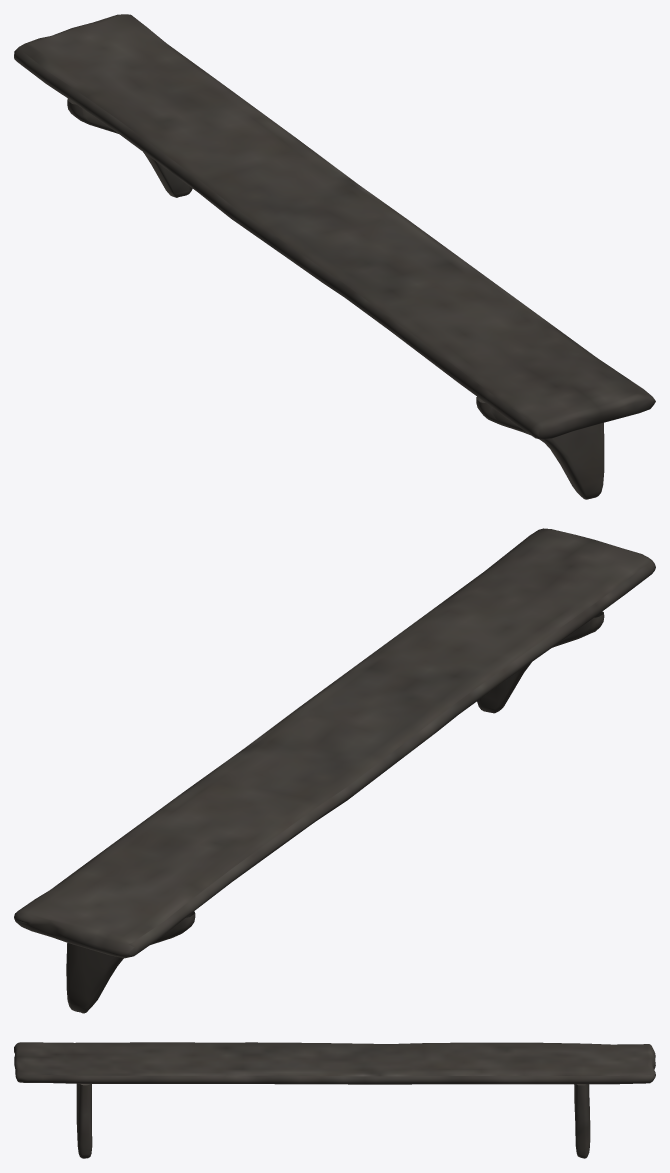
File: Shelf_01.fbx
The picture shows the model from 3 angles, top to bottom: view 1: azimuth 30°, elevation 25°; view 2: azimuth 150°, elevation 25°; view 3: azimuth 270°, elevation 25°; orthographic projection. The views are drawn at different scales.
Visible parts, largest first — view 1: Shelf_01; view 2: Shelf_01; view 3: Shelf_01.
Boxes of the visible parts, x1,y1,x2,y2 form: Shelf_01: (14, 14, 655, 499); Shelf_01: (14, 528, 655, 1013); Shelf_01: (14, 1042, 655, 1158).
Size of what is drawn, in the model's own units: 31.79 by 35.4 by 235.
